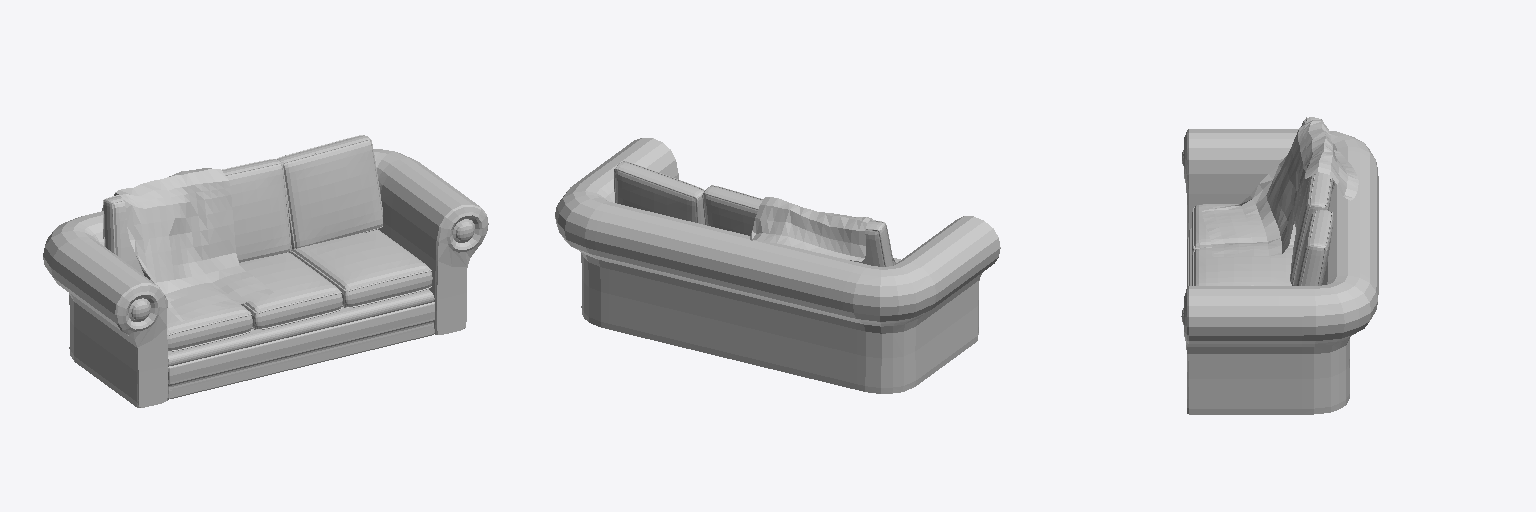
Rendered from Couch.obj.
3 renders of one model, left to right at view 1: azimuth 30°, elevation 25°; view 2: azimuth 150°, elevation 25°; view 3: azimuth 270°, elevation 25°, orthographic.
Parts seen in each view (by area): view 1: Border, Blanket, Lower, Cushon_Left_Upper, Cushon_Left_Lower, Cushon_Middle_Upper, Cushon_Middle_Lower, Cushion_Right_Lower, Cushon_Right_Upper; view 2: Border, Blanket, Cushon_Left_Upper, Cushon_Middle_Upper, Cushon_Right_Upper; view 3: Border, Blanket, Cushon_Middle_Lower, Cushon_Left_Upper, Cushon_Middle_Upper, Cushion_Right_Lower.
Boxes of the visible parts, x1=… form: Border: x1=43, y1=149, x2=488, y2=407; Blanket: x1=114, y1=168, x2=273, y2=321; Lower: x1=168, y1=289, x2=434, y2=399; Cushon_Left_Upper: x1=276, y1=135, x2=382, y2=248; Cushon_Left_Lower: x1=290, y1=229, x2=432, y2=307; Cushon_Middle_Upper: x1=222, y1=159, x2=291, y2=262; Cushon_Middle_Lower: x1=239, y1=253, x2=342, y2=329; Cushion_Right_Lower: x1=167, y1=304, x2=252, y2=351; Cushon_Right_Upper: x1=102, y1=195, x2=143, y2=274; Border: x1=555, y1=138, x2=1000, y2=393; Blanket: x1=750, y1=197, x2=900, y2=264; Cushon_Left_Upper: x1=614, y1=161, x2=704, y2=224; Cushon_Middle_Upper: x1=702, y1=185, x2=762, y2=235; Cushon_Right_Upper: x1=850, y1=220, x2=893, y2=266; Border: x1=1181, y1=129, x2=1378, y2=414; Blanket: x1=1201, y1=120, x2=1358, y2=256; Cushon_Middle_Lower: x1=1192, y1=248, x2=1292, y2=285; Cushon_Left_Upper: x1=1295, y1=210, x2=1333, y2=285; Cushon_Middle_Upper: x1=1290, y1=172, x2=1332, y2=285; Cushion_Right_Lower: x1=1192, y1=204, x2=1295, y2=255.
Bounding box in the file's own units: 11.65 × 4.72 × 5.32.